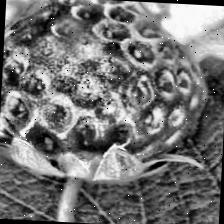Powdery Mildew Fruit: (0, 3, 170, 174)
